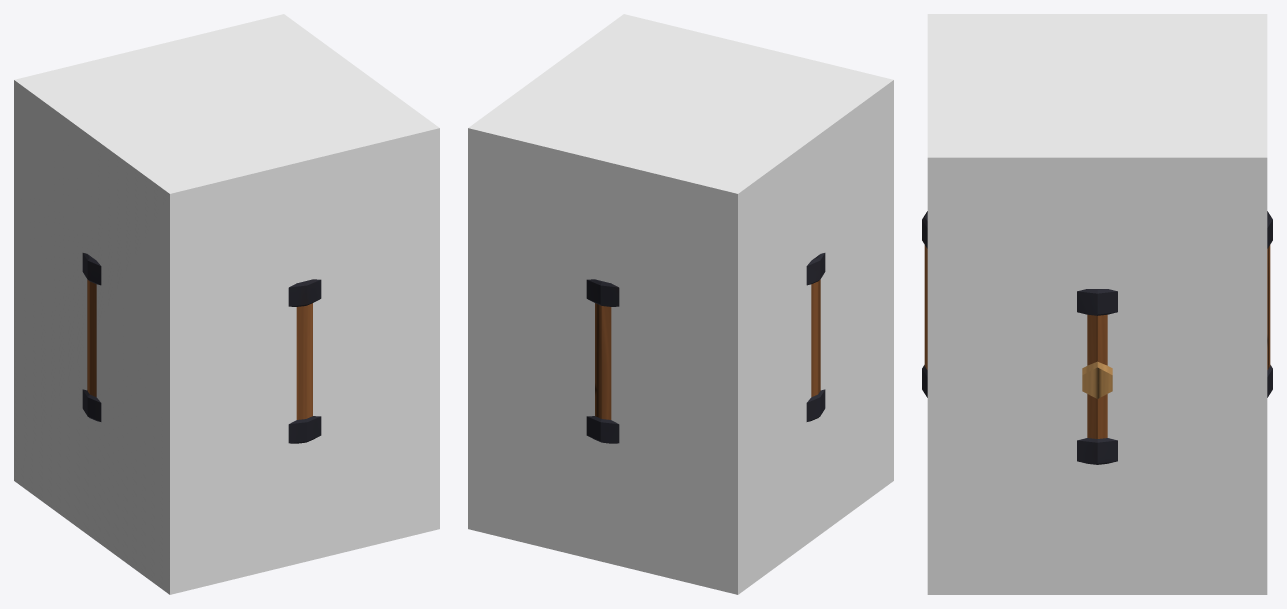
Rendered from barrel_prop.glb.
The picture shows the model from 3 angles, left to right: view 1: azimuth 30°, elevation 25°; view 2: azimuth 150°, elevation 25°; view 3: azimuth 270°, elevation 25°; orthographic projection. The views are drawn at different scales.
Parts seen in each view (by area): view 1: col_barrel, BarrelProp; view 2: col_barrel, BarrelProp; view 3: col_barrel, BarrelProp.
Part boxes in pixels (x1=…): col_barrel: x1=14, y1=14, x2=439, y2=594; BarrelProp: x1=82, y1=253, x2=321, y2=443; col_barrel: x1=468, y1=14, x2=893, y2=594; BarrelProp: x1=586, y1=253, x2=825, y2=443; col_barrel: x1=927, y1=14, x2=1267, y2=594; BarrelProp: x1=922, y1=211, x2=1272, y2=464.
Bounding box in the file's own units: 0.66 × 0.88 × 0.64.
Materials: 3 (2 with a texture image).
